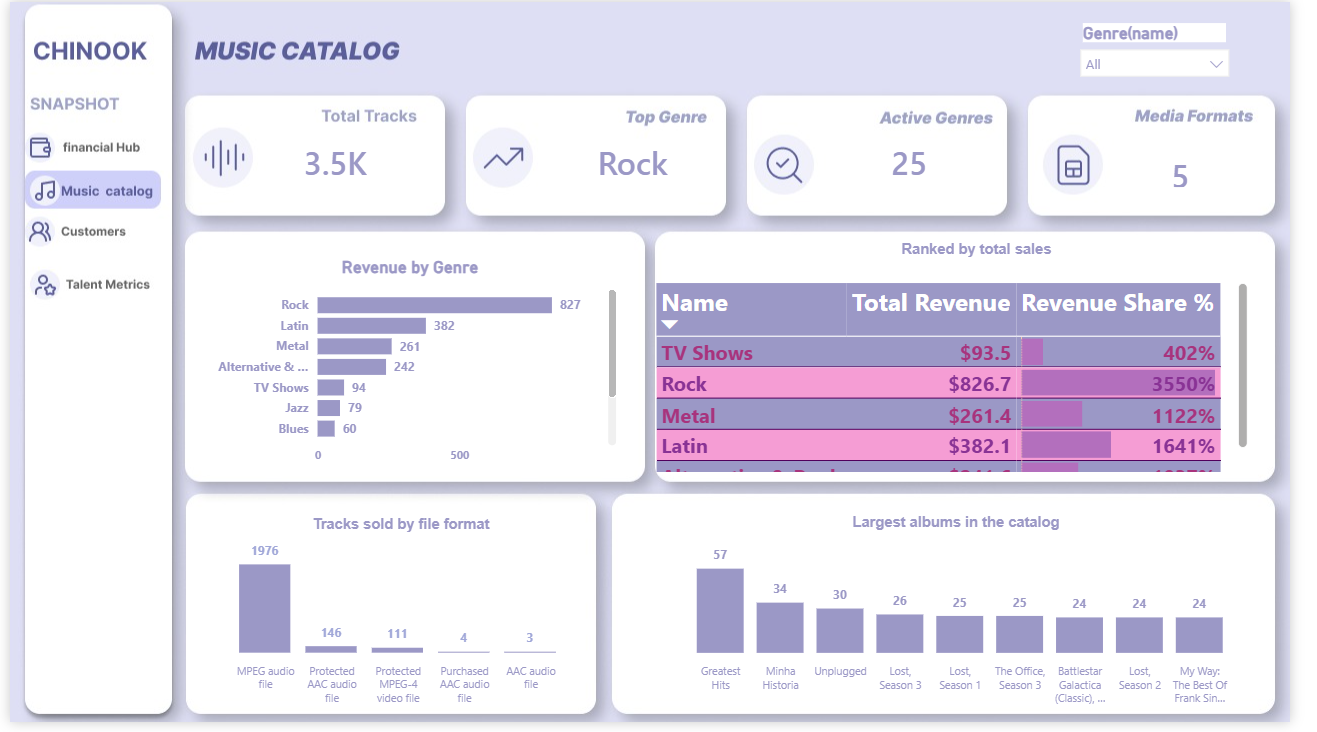

What the dashboard file says about the page in this screenshot:
{"tool":"powerbi","page":{"name":"Page 2","canvas":[1280,720],"ordinal":1},"visuals":[{"type":"cardVisual","fields":{"Data":["DAX.Total Tracks"]},"box":[265.5,115.5,161.9,88.1],"z":0},{"type":"cardVisual","fields":{"Data":["DAX.Media Formats"]},"box":[1132.1,141.7,83.3,61.9],"z":1000},{"type":"clusteredBarChart","title":" Revenue by Genre","fields":{"Category":["genre.Name"],"Y":["DAX.Genre Revenue"]},"box":[189.3,254.8,422.6,215.5],"z":2000},{"type":"columnChart","title":"Media Type Distribution","fields":{"Category":["mediatype.Name"],"Y":["DAX.Total Tracks Sold"]},"box":[189.3,528.6,390.5,182.1],"z":4000},{"type":"textbox","box":[297.6,507.1,194,50],"z":5000},{"type":"tableEx","fields":{"Values":["genre.Name","DAX.Total Revenue","DAX.Revenue Share %"]},"box":[640.5,276.2,602.4,197.6],"z":6000},{"type":"cardVisual","fields":{"Data":["DAX.Active Genres"]},"box":[852.4,115.5,127.4,89.3],"z":7000},{"type":"cardVisual","fields":{"Data":["DAX.Top Genre"]},"box":[558.3,115.5,141.7,88.1],"z":8000},{"type":"columnChart","title":"Top Albums by Track Count","fields":{"Category":["album.Title"],"Y":["DAX.Total Tracks"]},"box":[650,532.1,592.9,178.6],"z":9000},{"type":"textbox","box":[831,232.1,270.2,44],"z":10000},{"type":"textbox","box":[837.3,506.7,223.2,44.6],"z":11000},{"type":"slicer","fields":{"Values":["genre.Name"]},"box":[1059.5,16.7,169,66.7],"z":12000}]}

Visuals, with their boxes on the page's 1280x720 design canvas (x1, y1, x2, y2). These are canvas units, not pixel positions in the 1317x732 screenshot, which may show the page scaled, cropped or inside an application window:
cardVisual - DAX.Total Tracks: (left=266, top=116, right=427, bottom=204)
cardVisual - DAX.Media Formats: (left=1132, top=142, right=1215, bottom=204)
" Revenue by Genre" clusteredBarChart: (left=189, top=255, right=612, bottom=470)
"Media Type Distribution" columnChart: (left=189, top=529, right=580, bottom=711)
textbox: (left=298, top=507, right=492, bottom=557)
tableEx - genre.Name x DAX.Total Revenue: (left=640, top=276, right=1243, bottom=474)
cardVisual - DAX.Active Genres: (left=852, top=116, right=980, bottom=205)
cardVisual - DAX.Top Genre: (left=558, top=116, right=700, bottom=204)
"Top Albums by Track Count" columnChart: (left=650, top=532, right=1243, bottom=711)
textbox: (left=831, top=232, right=1101, bottom=276)
textbox: (left=837, top=507, right=1060, bottom=551)
slicer - genre.Name: (left=1060, top=17, right=1228, bottom=83)
